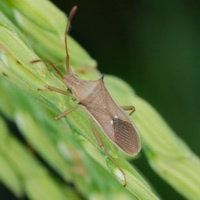insect: (31, 6, 140, 186)
